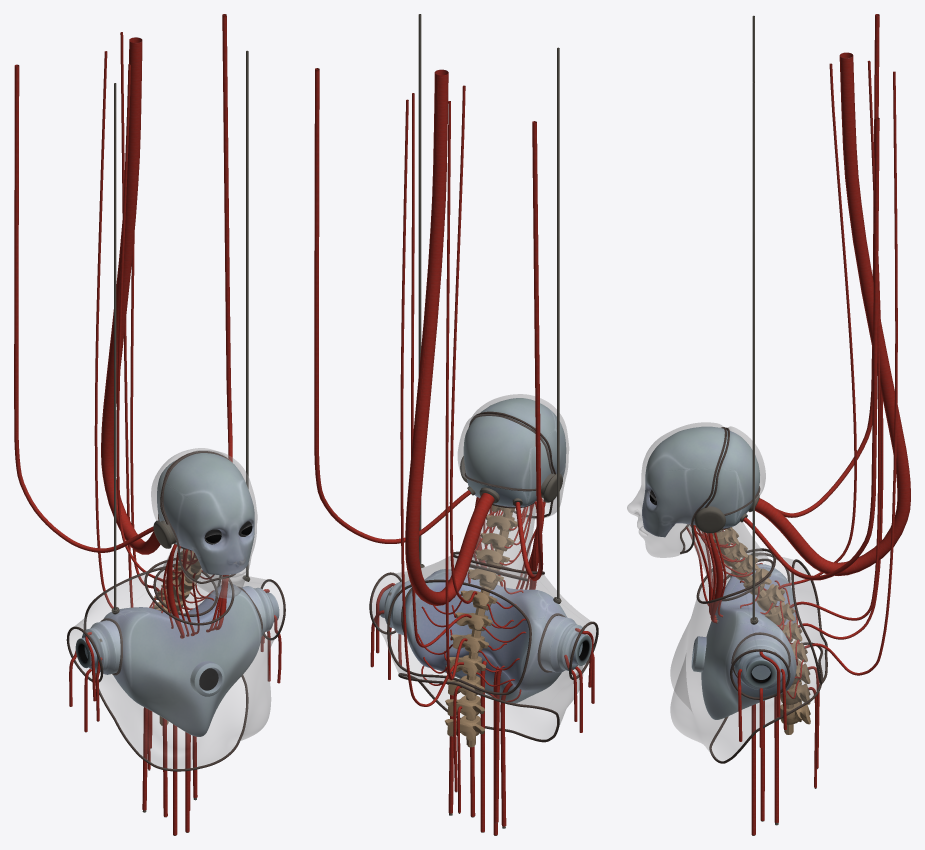
File: portrait_from_the_future.glb
3 renders of one model, left to right at view 1: azimuth 30°, elevation 25°; view 2: azimuth 150°, elevation 25°; view 3: azimuth 270°, elevation 25°, orthographic. The views are drawn at different scales.
Parts seen in each view (by area): view 1: Object_2, Object_8, Object_10, Object_3, Object_7, Object_9, Object_11, Object_5; view 2: Object_8, Object_2, Object_10, Object_11, Object_3, Object_7, Object_9; view 3: Object_2, Object_8, Object_10, Object_11, Object_3, Object_7, Object_9.
Part boxes in pixels (left/top/right/bottom): Object_2: left=69, top=448, right=283, bottom=769; Object_8: left=14, top=14, right=281, bottom=835; Object_10: left=103, top=453, right=261, bottom=736; Object_3: left=66, top=451, right=285, bottom=771; Object_7: left=70, top=50, right=263, bottom=835; Object_9: left=75, top=586, right=279, bottom=674; Object_11: left=151, top=549, right=201, bottom=725; Object_5: left=199, top=521, right=252, bottom=690; Object_8: left=314, top=68, right=594, bottom=835; Object_2: left=371, top=394, right=595, bottom=739; Object_10: left=405, top=398, right=567, bottom=703; Object_11: left=445, top=505, right=517, bottom=747; Object_3: left=369, top=411, right=598, bottom=742; Object_7: left=371, top=14, right=593, bottom=835; Object_9: left=379, top=580, right=591, bottom=672; Object_2: left=627, top=422, right=824, bottom=761; Object_8: left=686, top=14, right=910, bottom=835; Object_10: left=642, top=426, right=796, bottom=719; Object_11: left=712, top=527, right=810, bottom=734; Object_3: left=680, top=427, right=827, bottom=763; Object_7: left=685, top=15, right=817, bottom=835; Object_9: left=734, top=564, right=788, bottom=689.
Size of the model in its own units: 29.57 by 100 by 32.92.
Materials: 10 (10 with a texture image).
